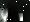person: (1, 9, 11, 22), (16, 11, 23, 21)
